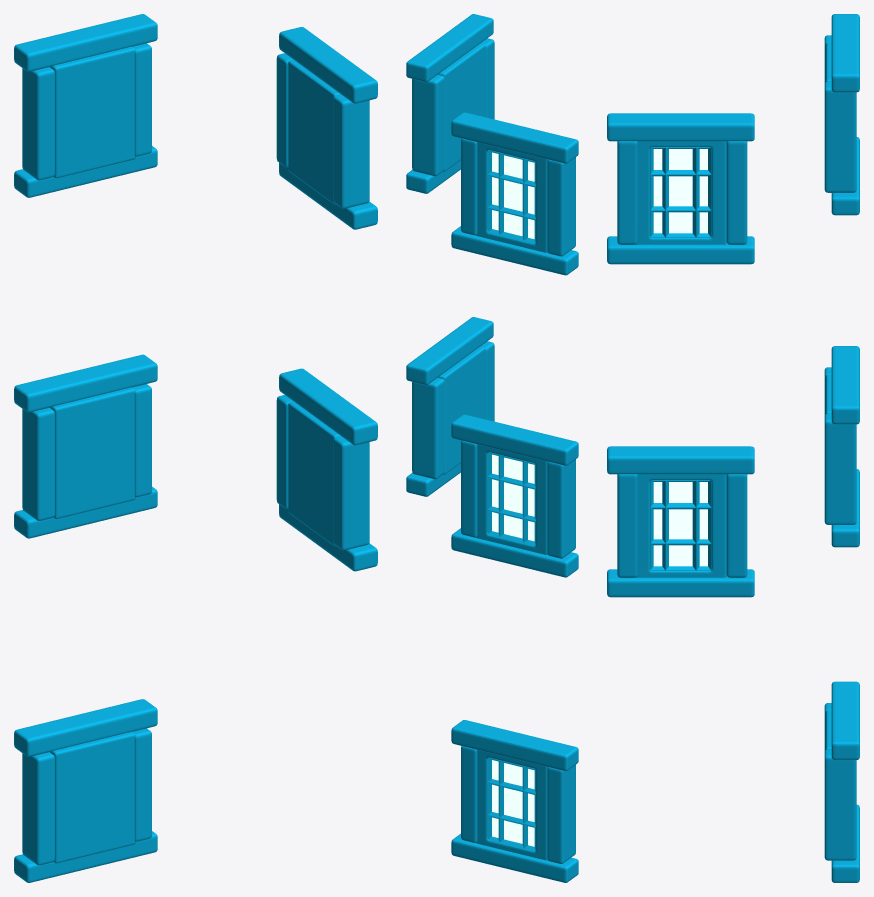
File: SM_Brick_Window_04.fbx
3 renders of one model, left to right at view 1: azimuth 30°, elevation 25°; view 2: azimuth 150°, elevation 25°; view 3: azimuth 270°, elevation 25°, orthographic. The views are drawn at different scales.
Parts seen in each view (by area): view 1: SM_Brick_Window_04; view 2: SM_Brick_Window_04; view 3: SM_Brick_Window_04.
Part boxes in pixels (x1,y1,x2,y2): SM_Brick_Window_04: [14, 14, 377, 882]; SM_Brick_Window_04: [406, 14, 578, 882]; SM_Brick_Window_04: [607, 14, 859, 882].
Size of the model in its own units: 1.8 by 6.06 by 1.72.
